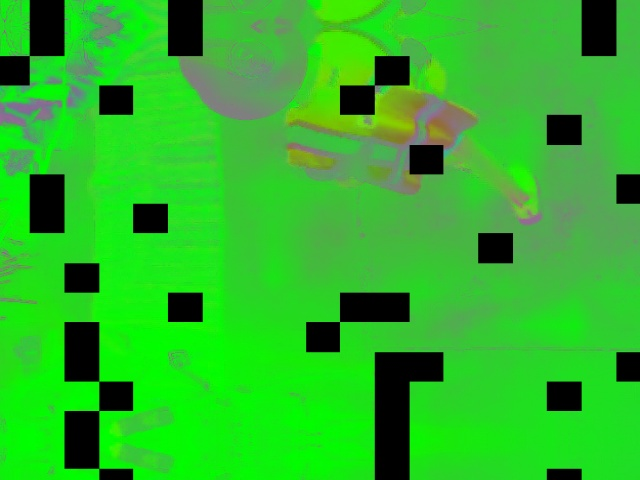three: (228, 37, 274, 77)
